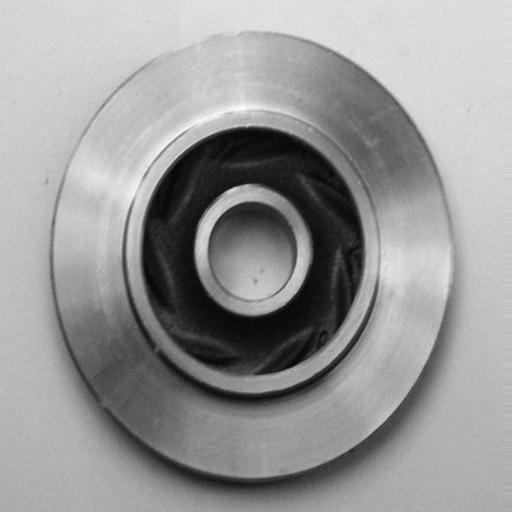unpolished_casting: (49, 29, 457, 483)
